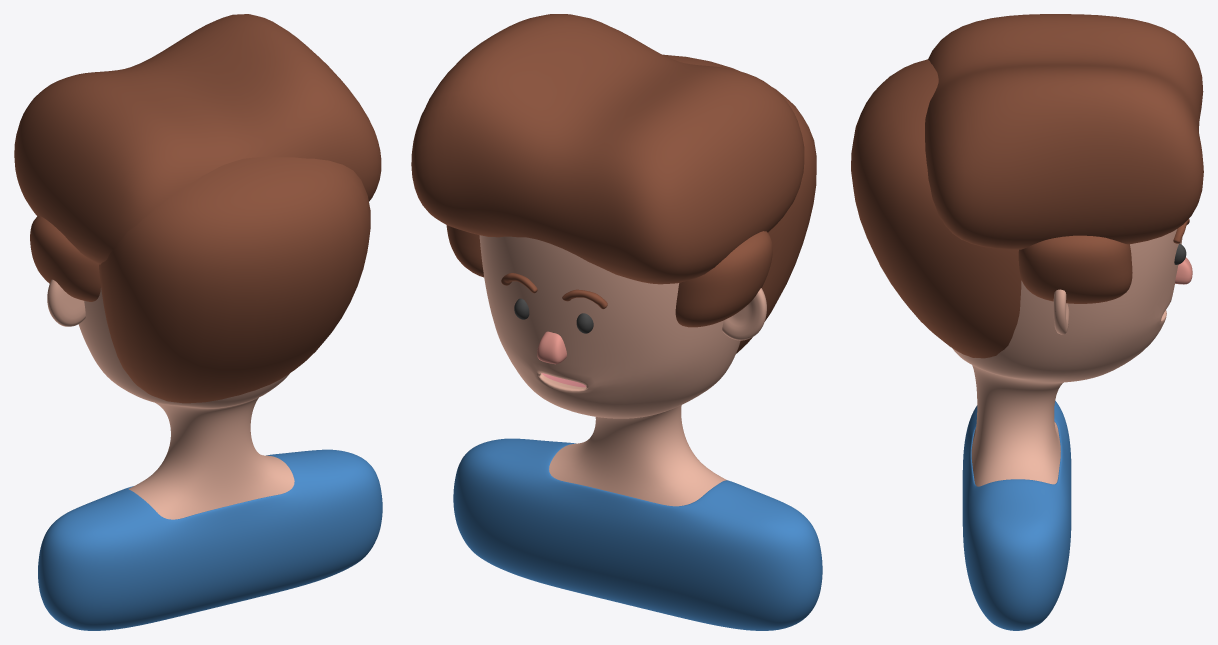
File: avatar.fbx
3 renders of one model, left to right at view 1: azimuth 30°, elevation 25°; view 2: azimuth 150°, elevation 25°; view 3: azimuth 270°, elevation 25°, orthographic. The views are drawn at different scales.
Visible parts, largest first — view 1: head; view 2: head; view 3: head.
Boxes of the visible parts, x1,y1,x2,y2 form: head: (14, 14, 382, 630); head: (411, 14, 822, 630); head: (851, 14, 1203, 630).
Bounding box in the file's own units: 27.77 × 41.78 × 24.65.
